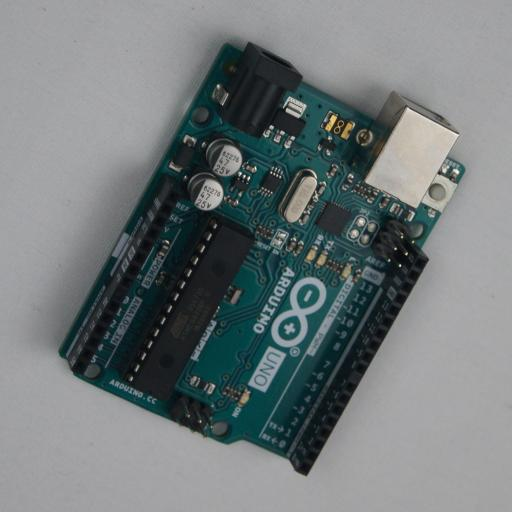Arduino Uno -Green-: (58, 39, 465, 476)
